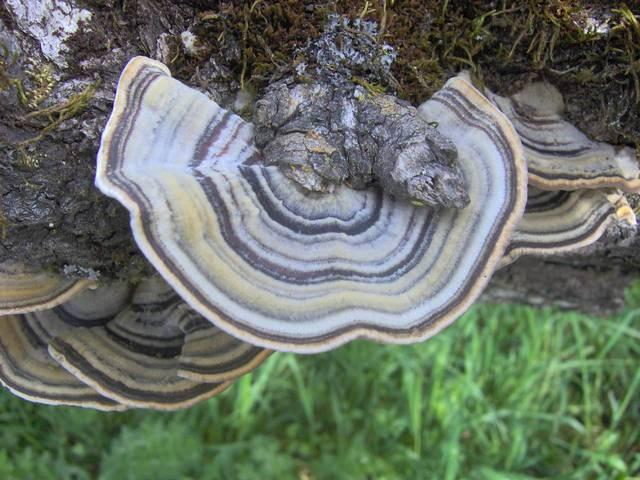Non-edible Mushroom: (91, 17, 639, 355)
